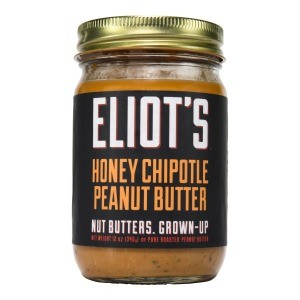peanut butter_brain food: (85, 85, 208, 214)
